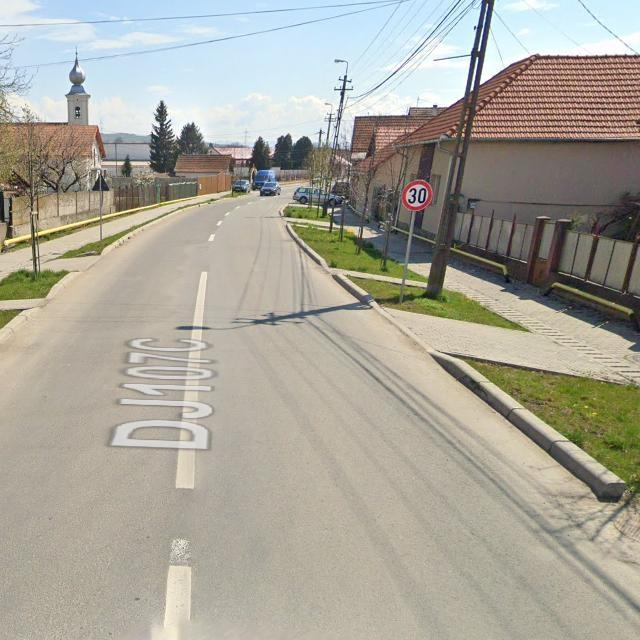forb_speed_over_30: (402, 179, 433, 211)
